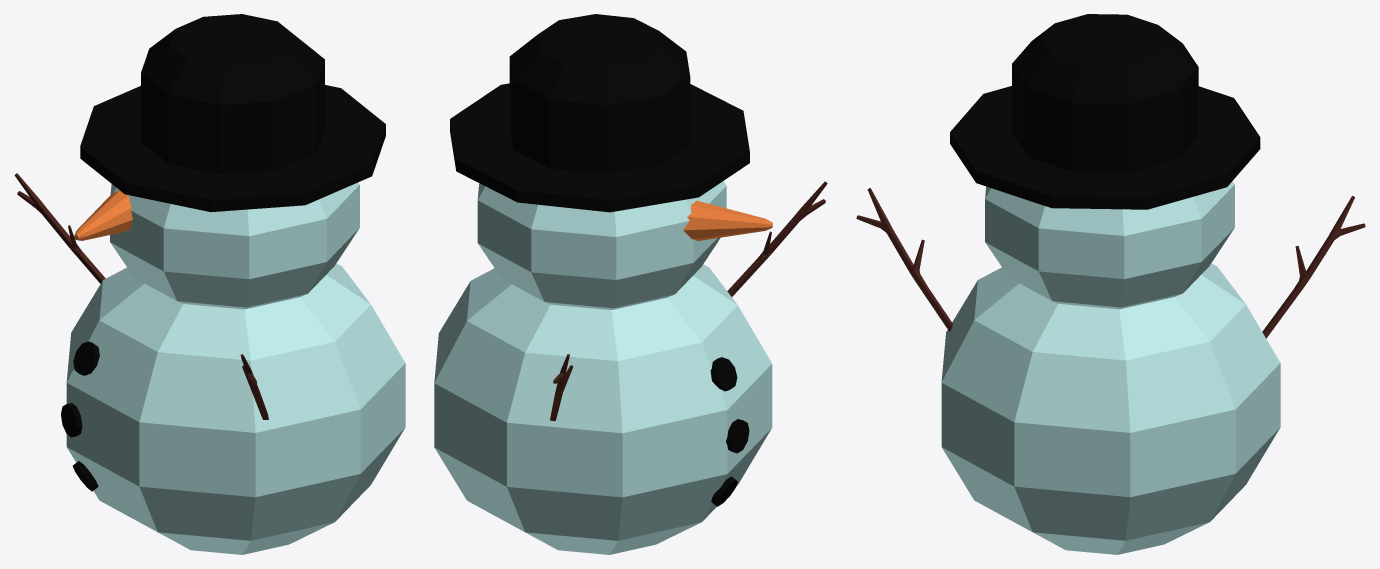
Rendered from snowman.fbx.
The picture shows the model from 3 angles, left to right: view 1: azimuth 30°, elevation 25°; view 2: azimuth 150°, elevation 25°; view 3: azimuth 270°, elevation 25°; orthographic projection.
Visible parts, largest first — view 1: snowman; view 2: snowman; view 3: snowman.
Boxes of the visible parts, x1,y1,x2,y2 form: snowman: (14,14,405,554); snowman: (434,14,827,554); snowman: (856,14,1365,554).
Bounding box in the file's own units: 82.67 × 125 × 116.
